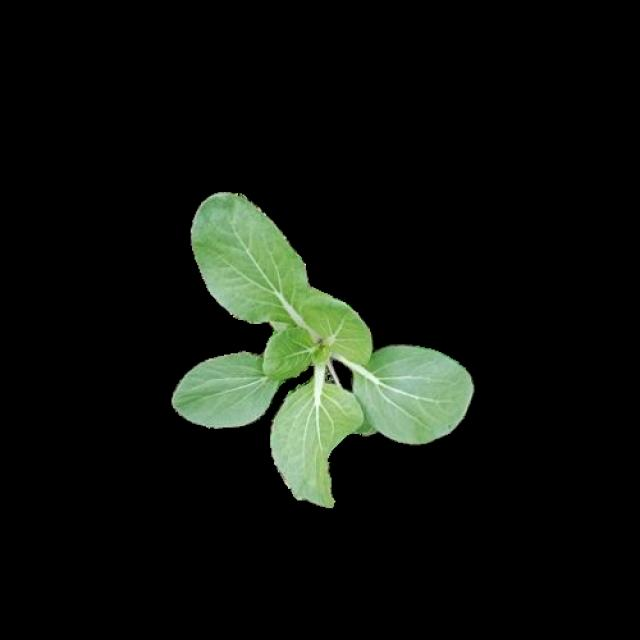healthy: (170, 191, 472, 503)
not-mature: (173, 193, 475, 506)
